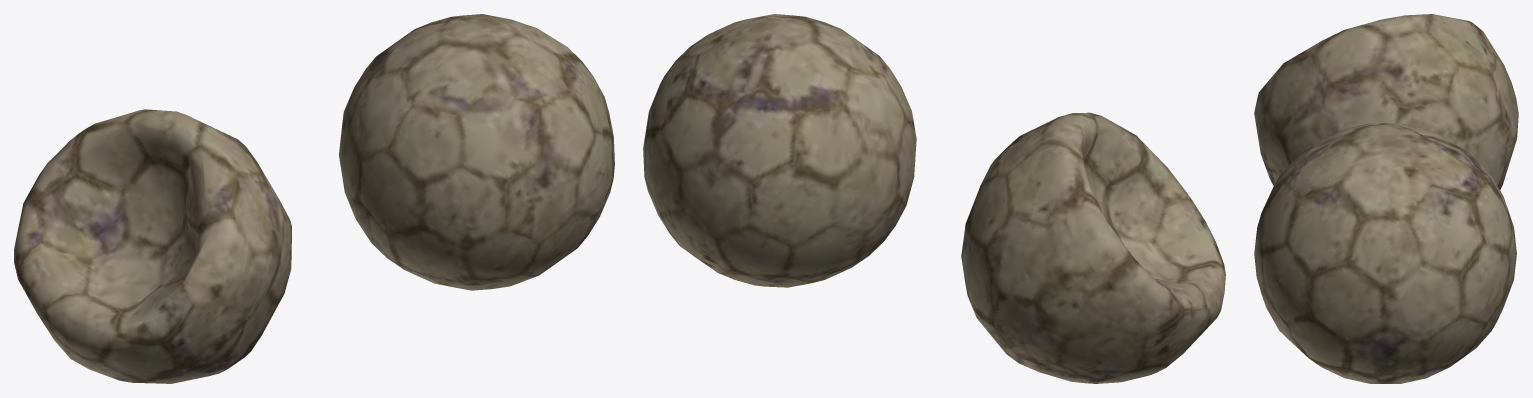
The model's file is cc0_football.glb.
3 views of the same model, side by side, from view 1: azimuth 30°, elevation 25°; view 2: azimuth 150°, elevation 25°; view 3: azimuth 270°, elevation 25° (orthographic). The views are drawn at different scales.
Visible parts, largest first — view 1: football_inflated, football_deflated; view 2: football_inflated, football_deflated; view 3: football_inflated, football_deflated.
Part boxes in pixels (bbox=[...]): football_inflated: bbox=[339, 14, 614, 290]; football_deflated: bbox=[14, 109, 291, 383]; football_inflated: bbox=[643, 14, 916, 287]; football_deflated: bbox=[961, 112, 1225, 383]; football_inflated: bbox=[1254, 123, 1516, 383]; football_deflated: bbox=[1254, 14, 1518, 189].
Bounding box in the file's own units: 0.508 × 0.2219 × 0.2222.
Materials: 1 (1 with a texture image).
